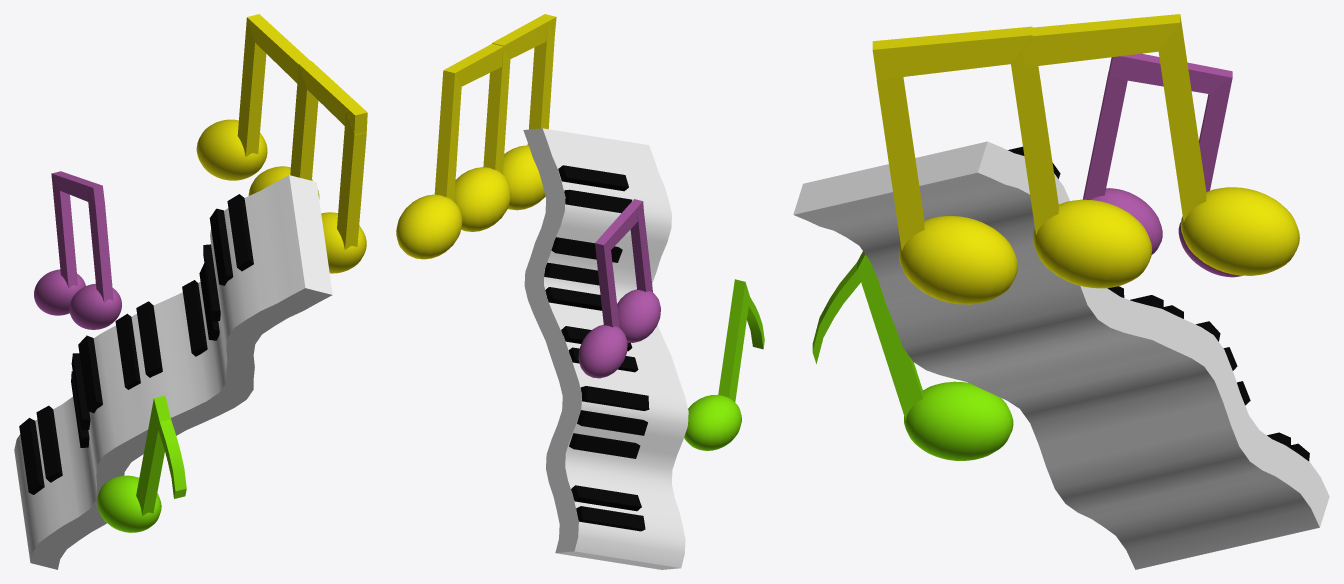
File: CollectObjectPiano.fbx
3 renders of one model, left to right at view 1: azimuth 30°, elevation 25°; view 2: azimuth 150°, elevation 25°; view 3: azimuth 270°, elevation 25°, orthographic. The views are drawn at different scales.
Parts seen in each view (by area): view 1: pSphere17; view 2: pSphere17; view 3: pSphere17.
Boxes of the visible parts, box(x1,y1,x2,y2) form: pSphere17: box(14, 14, 367, 569); pSphere17: box(396, 14, 764, 569); pSphere17: box(793, 14, 1329, 569).
Size of the model in its own units: 0.9643 by 1.71 by 1.19.
